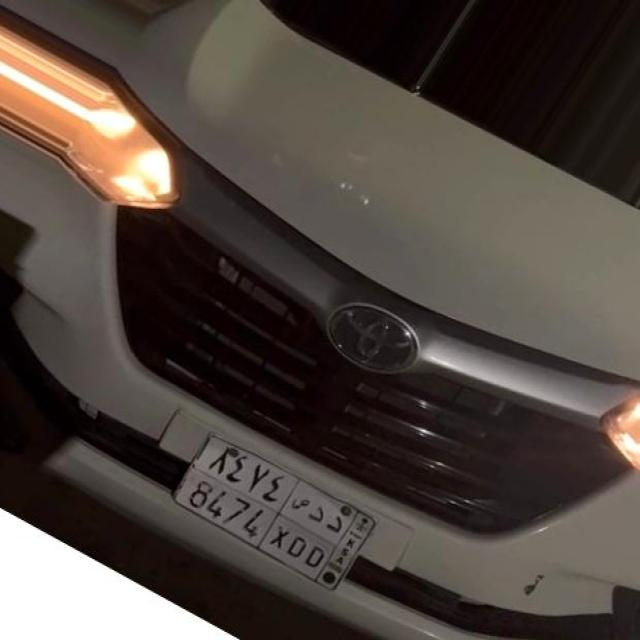Car-plate: (156, 409, 401, 607)
